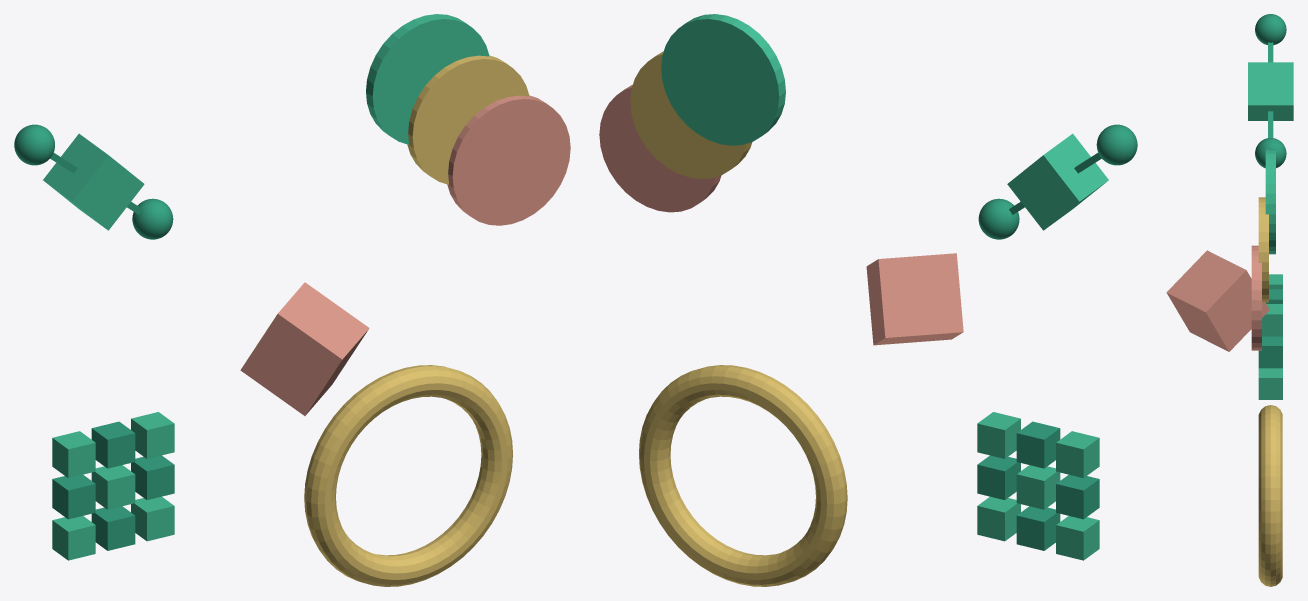
Rendered from scene-04-shapes.glb.
3 views of the same model, side by side, from view 1: azimuth 30°, elevation 25°; view 2: azimuth 150°, elevation 25°; view 3: azimuth 270°, elevation 25° (orthographic). The views are drawn at different scales.
Parts seen in each view (by area): view 1: ring, sw2, cube, sw0, sw1, anchor, px6, px7, px3, px0, px8, px4 (+5 smaller); view 2: ring, sw0, cube, sw2, sw1, anchor, px6, px3, px0, px7, px8, px4 (+5 smaller); view 3: cube, ring, anchor, sw2, sw0, sw1, px2, h1, px5, px8, h2, hl (+2 smaller).
Boxes of the visible parts, bbox=[...] form: ring: bbox=[304, 365, 512, 586]; sw2: bbox=[447, 95, 570, 225]; cube: bbox=[240, 282, 369, 415]; sw0: bbox=[366, 14, 489, 144]; sw1: bbox=[407, 55, 529, 184]; anchor: bbox=[43, 133, 144, 230]; px6: bbox=[52, 431, 95, 478]; px7: bbox=[91, 421, 135, 468]; px3: bbox=[52, 474, 95, 519]; px0: bbox=[52, 516, 95, 560]; px8: bbox=[131, 412, 174, 458]; px4: bbox=[91, 465, 135, 509]; ring: bbox=[639, 365, 847, 586]; sw0: bbox=[661, 14, 785, 145]; cube: bbox=[866, 253, 963, 345]; sw2: bbox=[599, 84, 721, 212]; sw1: bbox=[630, 51, 752, 178]; anchor: bbox=[1007, 133, 1108, 230]; px6: bbox=[1056, 431, 1099, 477]; px3: bbox=[1056, 474, 1099, 519]; px0: bbox=[1056, 516, 1099, 560]; px7: bbox=[1016, 421, 1060, 468]; px8: bbox=[977, 412, 1020, 458]; px4: bbox=[1016, 465, 1060, 509]; cube: bbox=[1166, 250, 1269, 351]; ring: bbox=[1258, 405, 1282, 586]; anchor: bbox=[1248, 62, 1293, 120]; sw2: bbox=[1251, 245, 1261, 350]; sw0: bbox=[1265, 149, 1275, 254]; sw1: bbox=[1258, 197, 1268, 302]; px2: bbox=[1258, 368, 1282, 399]; h1: bbox=[1255, 14, 1286, 45]; px5: bbox=[1258, 336, 1282, 368]; px8: bbox=[1262, 304, 1282, 336]; h2: bbox=[1255, 138, 1286, 168]; hl: bbox=[1268, 42, 1273, 137].
Bounding box in the file's own units: 2.75 × 2.72 × 0.7256.
